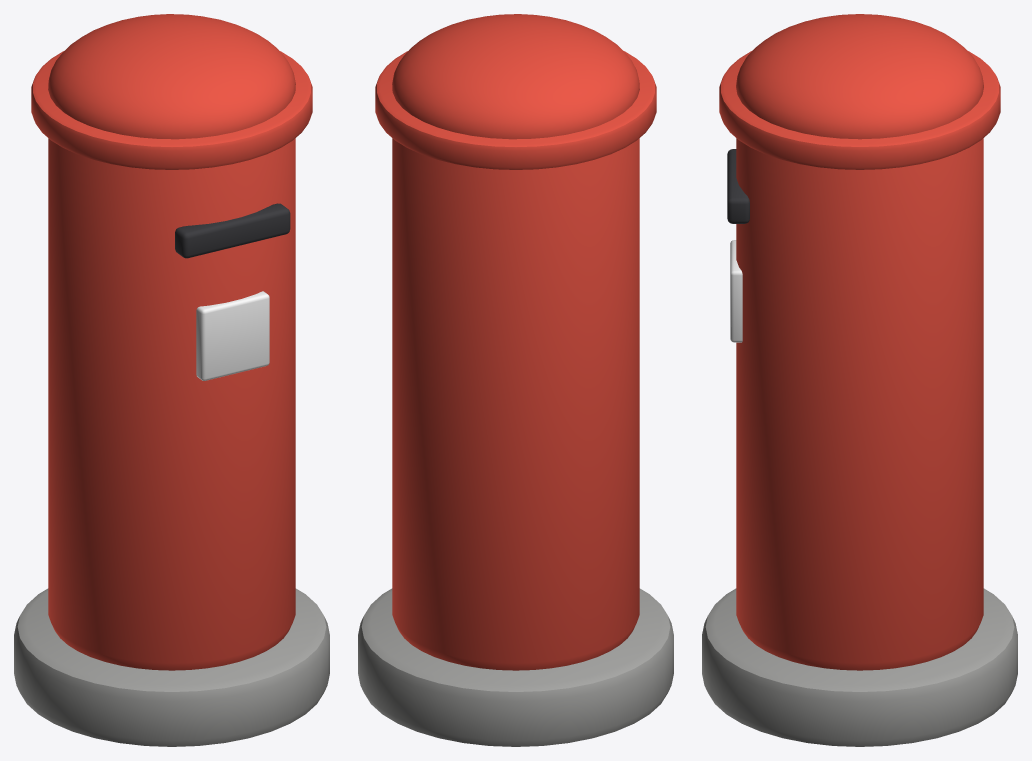
The model's file is post.glb.
The picture shows the model from 3 angles, left to right: view 1: azimuth 30°, elevation 25°; view 2: azimuth 150°, elevation 25°; view 3: azimuth 270°, elevation 25°; orthographic projection.
Parts seen in each view (by area): view 1: post; view 2: post; view 3: post.
Boxes of the visible parts, left/top/right/bottom form: post: left=14, top=14, right=329, bottom=746; post: left=358, top=14, right=673, bottom=746; post: left=702, top=14, right=1017, bottom=746.
Size of the model in its own units: 0.56 by 1.27 by 0.56.
